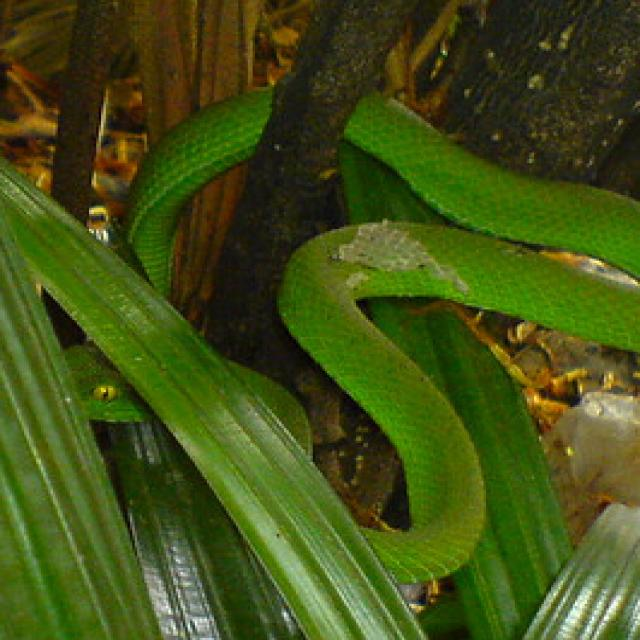snake: (60, 113, 640, 586)
